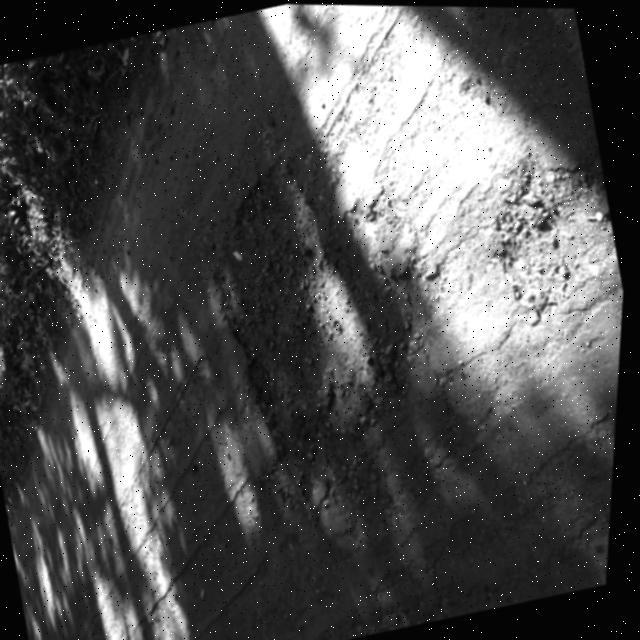pothole: (176, 119, 502, 533), (468, 132, 634, 328)
